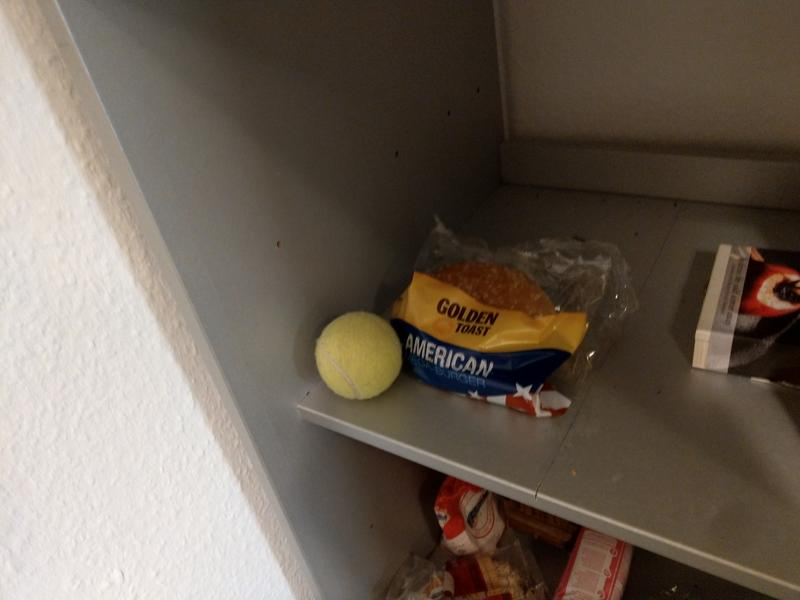Tennisball: (312, 309, 405, 404)
